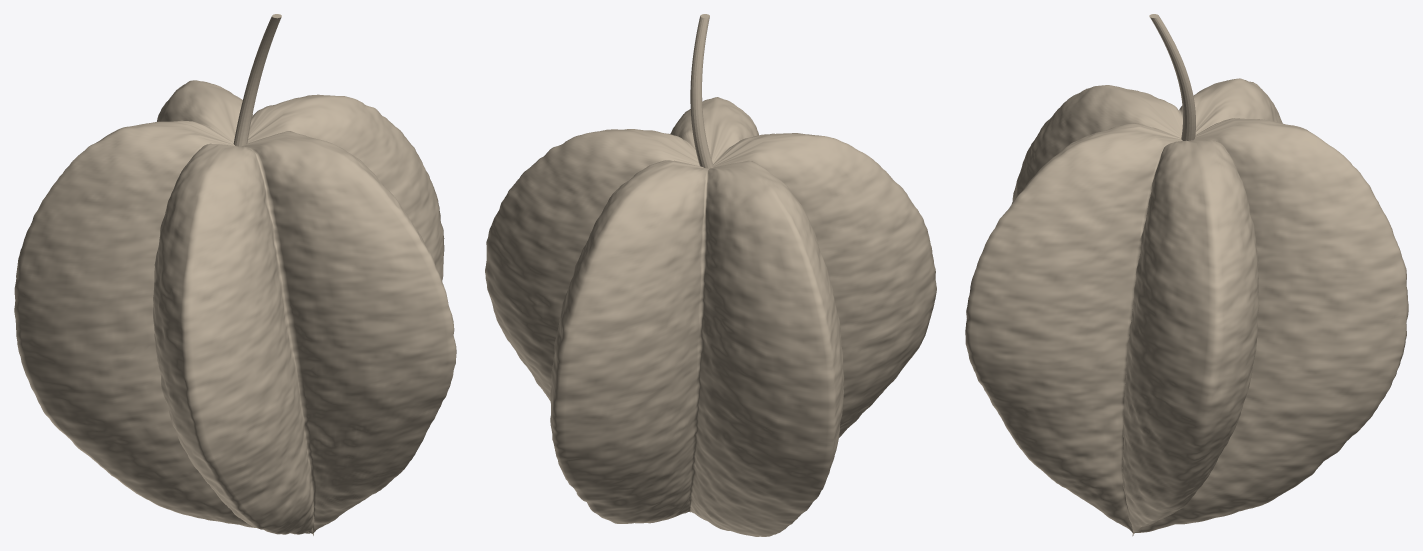
The model's file is 3dcodebench_FruitStarfruit_seed0.glb.
3 views of the same model, side by side, from view 1: azimuth 30°, elevation 25°; view 2: azimuth 150°, elevation 25°; view 3: azimuth 270°, elevation 25° (orthographic). The views are drawn at different scales.
Parts seen in each view (by area): view 1: object; view 2: object; view 3: object.
Boxes of the visible parts, <box> form: object: <box>14,14,456,535</box>; object: <box>485,14,936,536</box>; object: <box>965,14,1408,536</box>.
Size of the model in its own units: 1.82 by 2.3 by 1.82.
